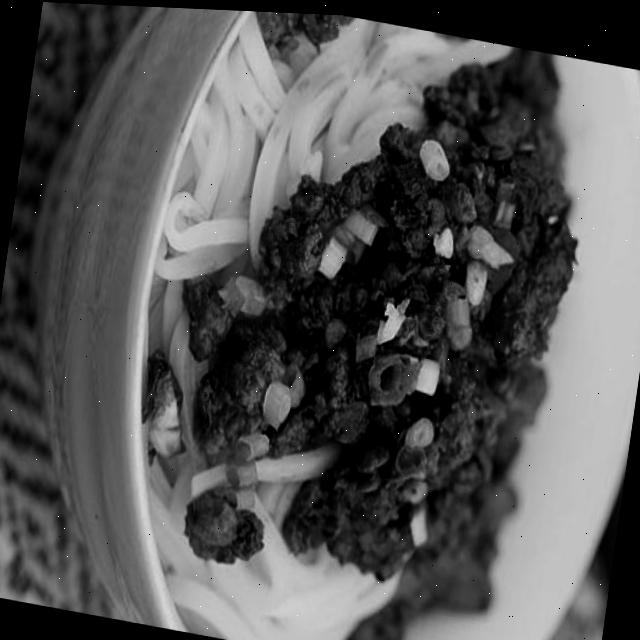面条主食: (67, 2, 640, 640)
